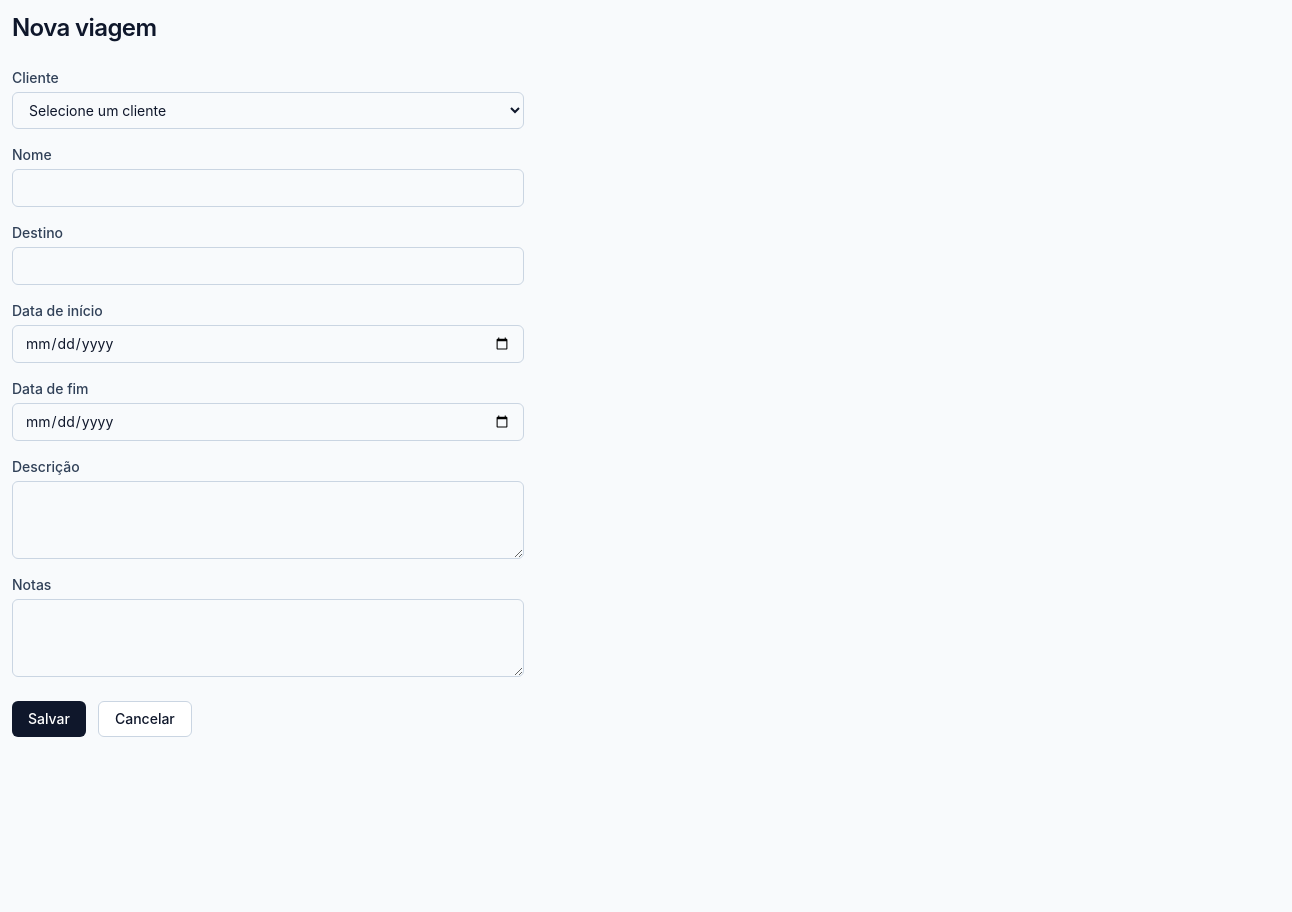
Test case: TripFormPage › 403 error shows a safe permission message
This screenshot has width=1292, height=912.
Select "Maria Silva" in the dropdown labelled "Cliente" at (268, 110), box [12,92,524,129]
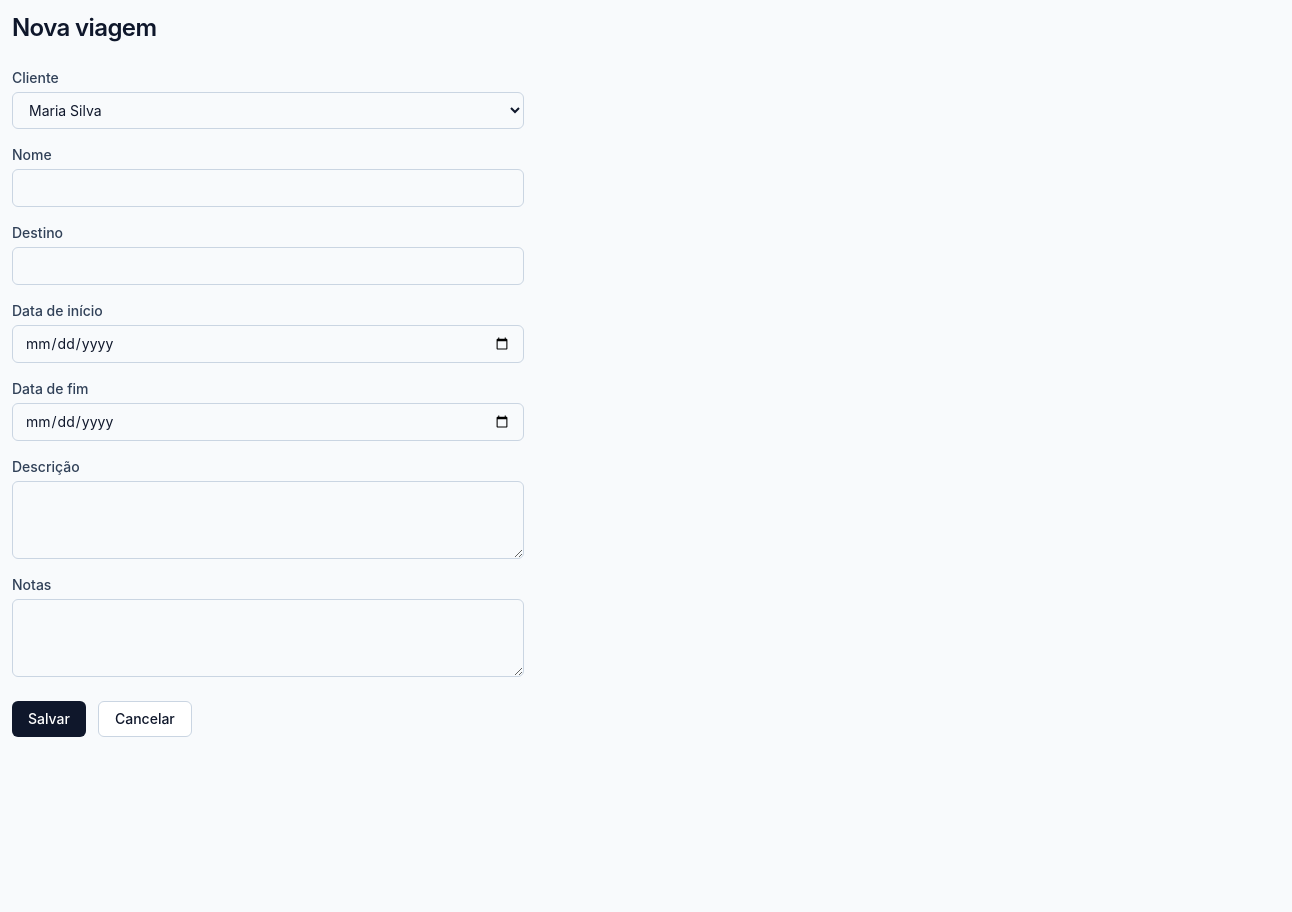
Type "Lua de mel" into the field labelled "Nome" at (268, 188), box [12,169,524,207]
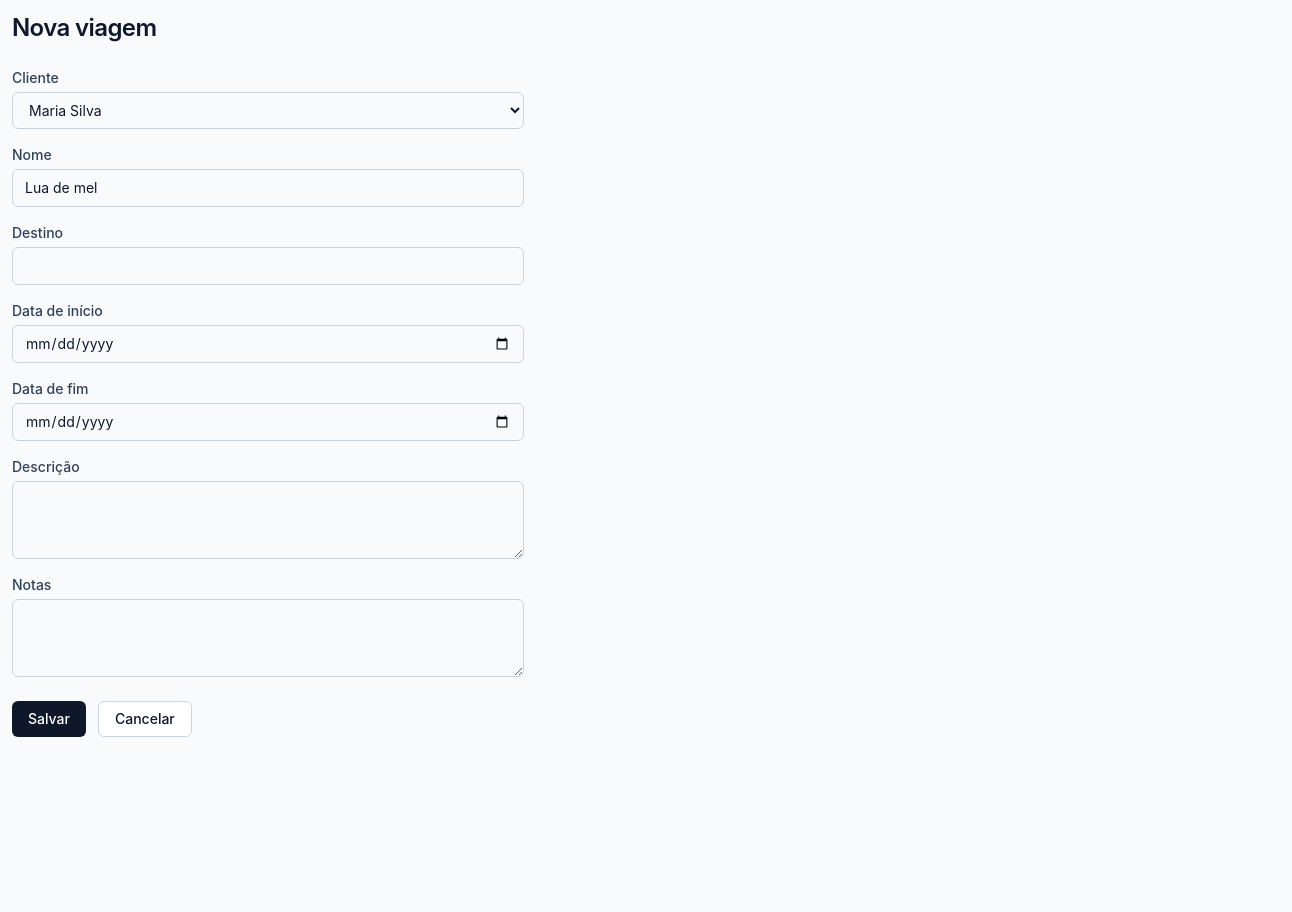
Type "Paris" into the field labelled "Destino" at (268, 266), box [12,247,524,285]
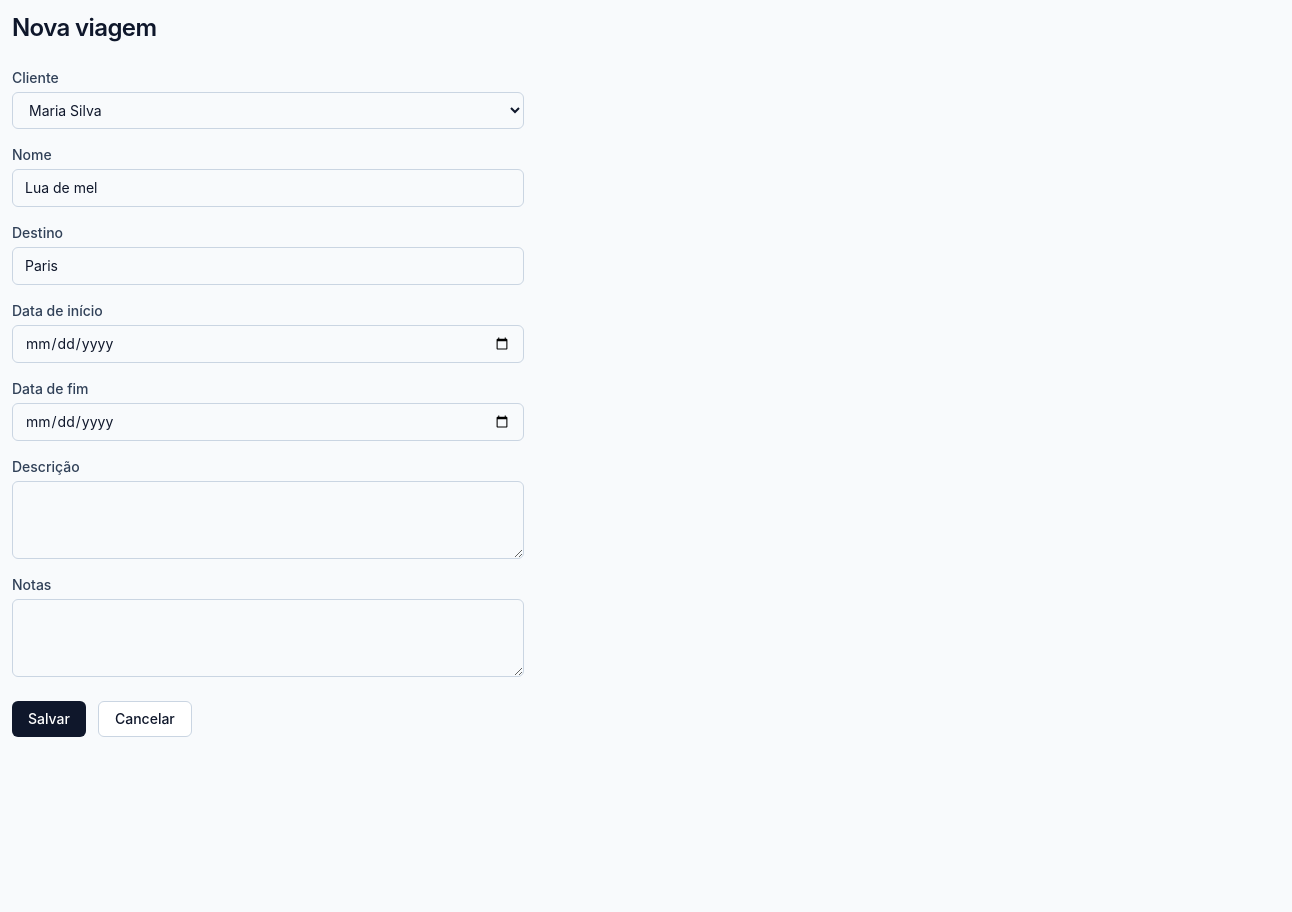
Type "2026-06-01" into the date field labelled "Data de início" at (268, 344), box [12,325,524,363]
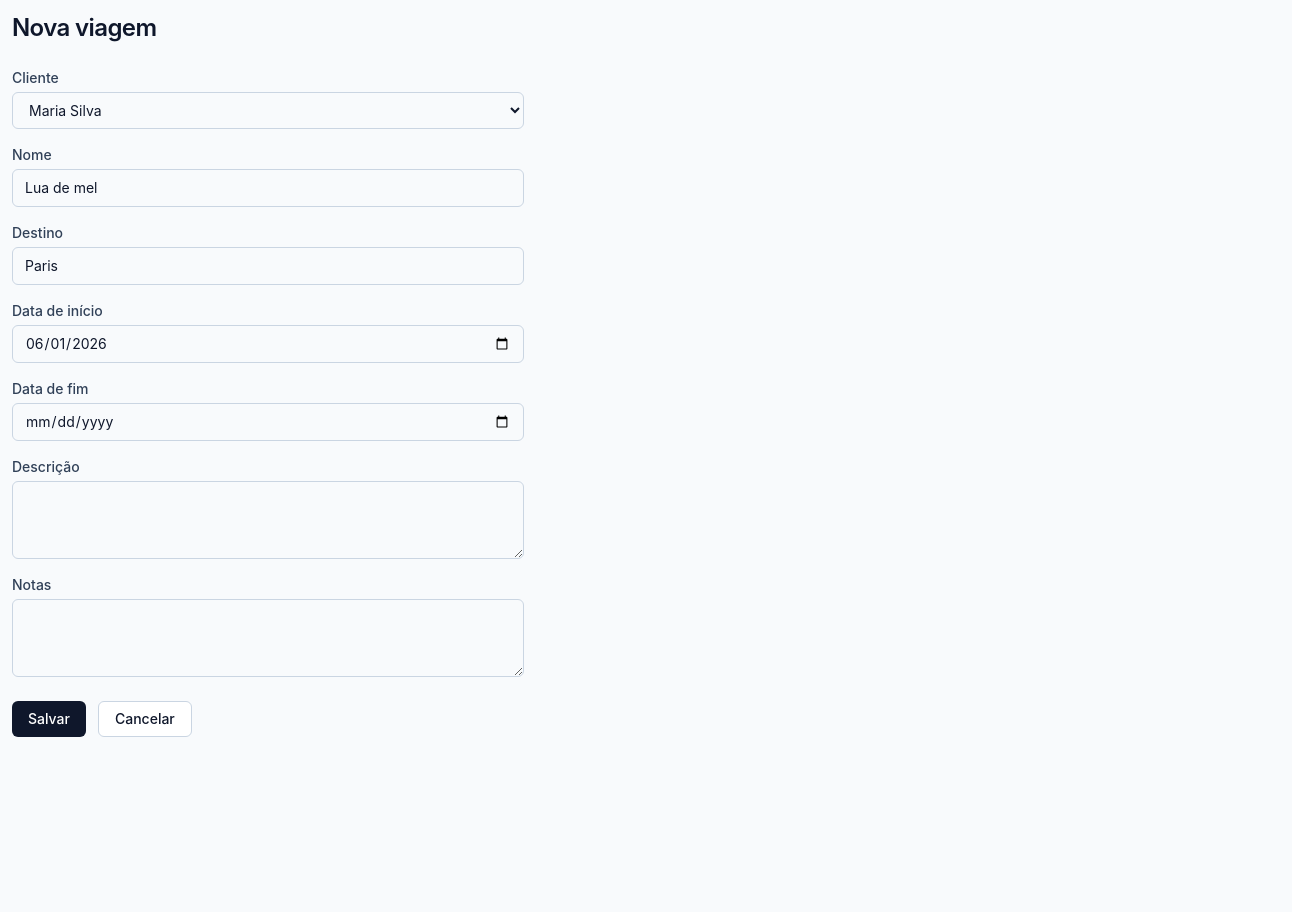
Type "2026-06-10" into the date field labelled "Data de fim" at (268, 422), box [12,403,524,441]
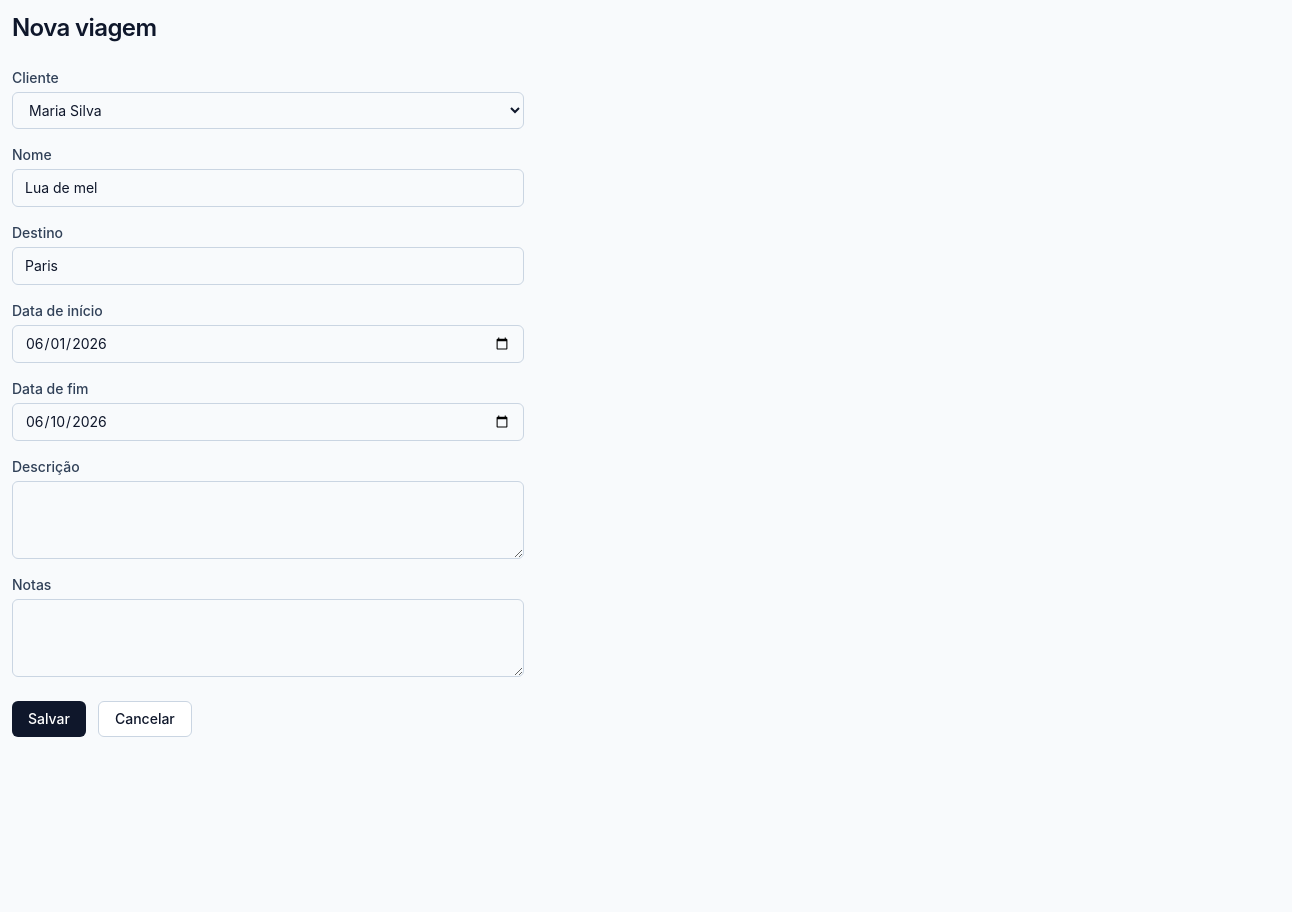
Click the button "Salvar" at (49, 719), box [12,701,86,737]
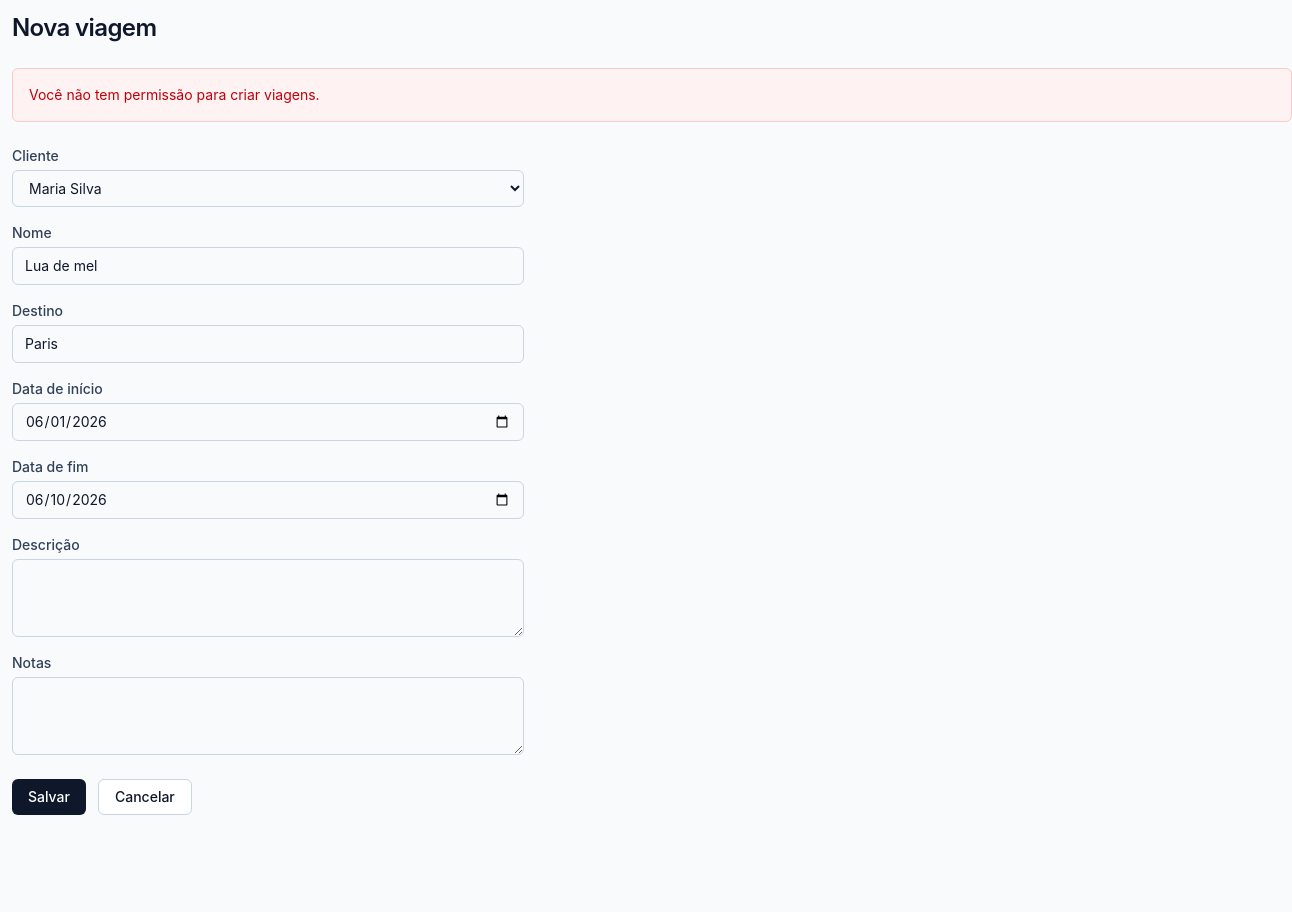
Expected: the text "Você não tem permissão para criar viagens." is shown, [12,68,1291,122]
